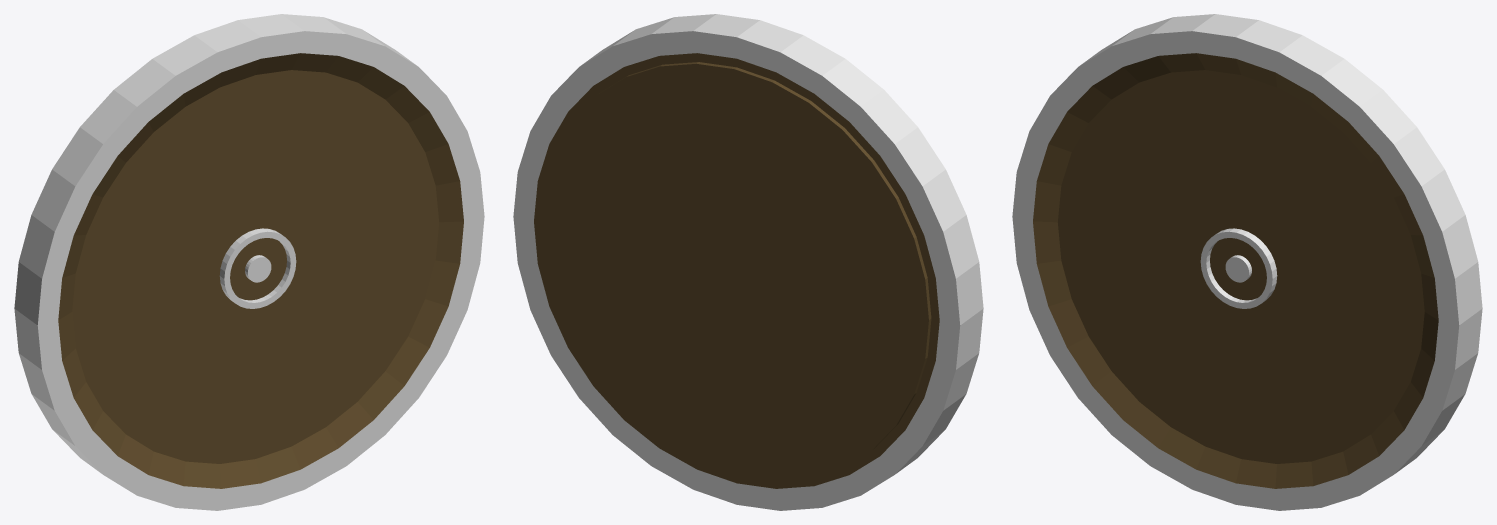
Rendered from wood_shield.fbx.
3 views of the same model, side by side, from view 1: azimuth 30°, elevation 25°; view 2: azimuth 150°, elevation 25°; view 3: azimuth 330°, elevation 25° (orthographic).
Parts seen in each view (by area): view 1: Shield; view 2: Shield; view 3: Shield.
Part boxes in pixels (x1,y1,x2,y2): Shield: [14, 14, 484, 510]; Shield: [513, 14, 983, 510]; Shield: [1012, 14, 1482, 510].
Bounding box in the file's own units: 51.02 × 5.11 × 51.02.
